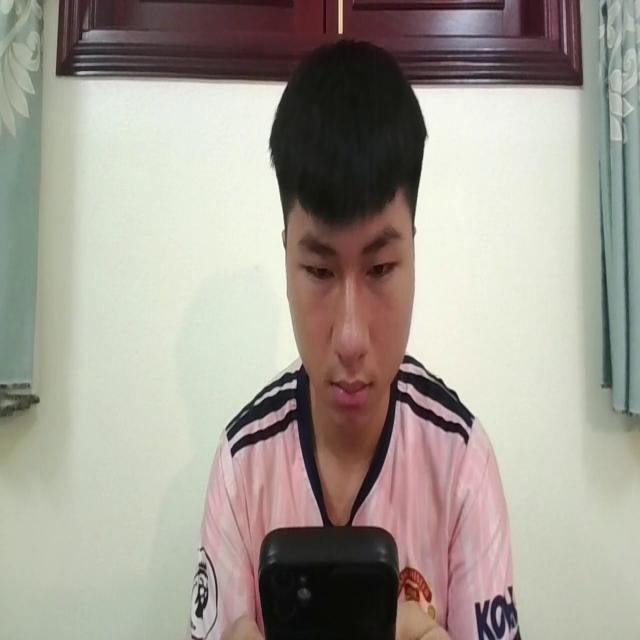phone: (255, 515, 398, 640)
student: (191, 37, 521, 640)
